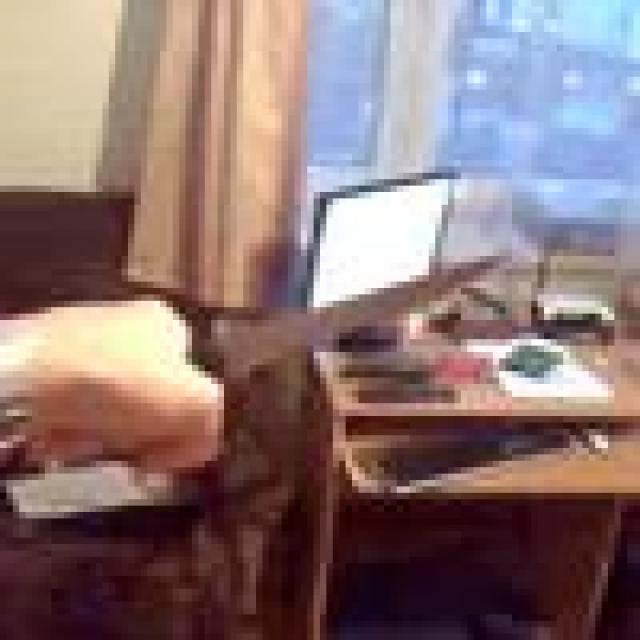knife: (201, 252, 515, 404)
